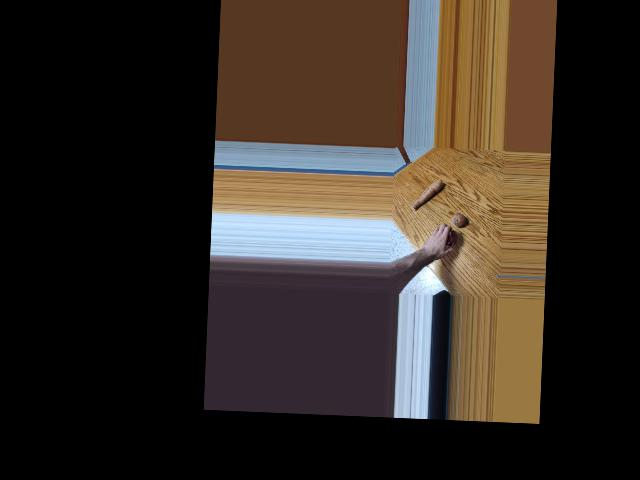onion: (451, 214, 463, 227)
